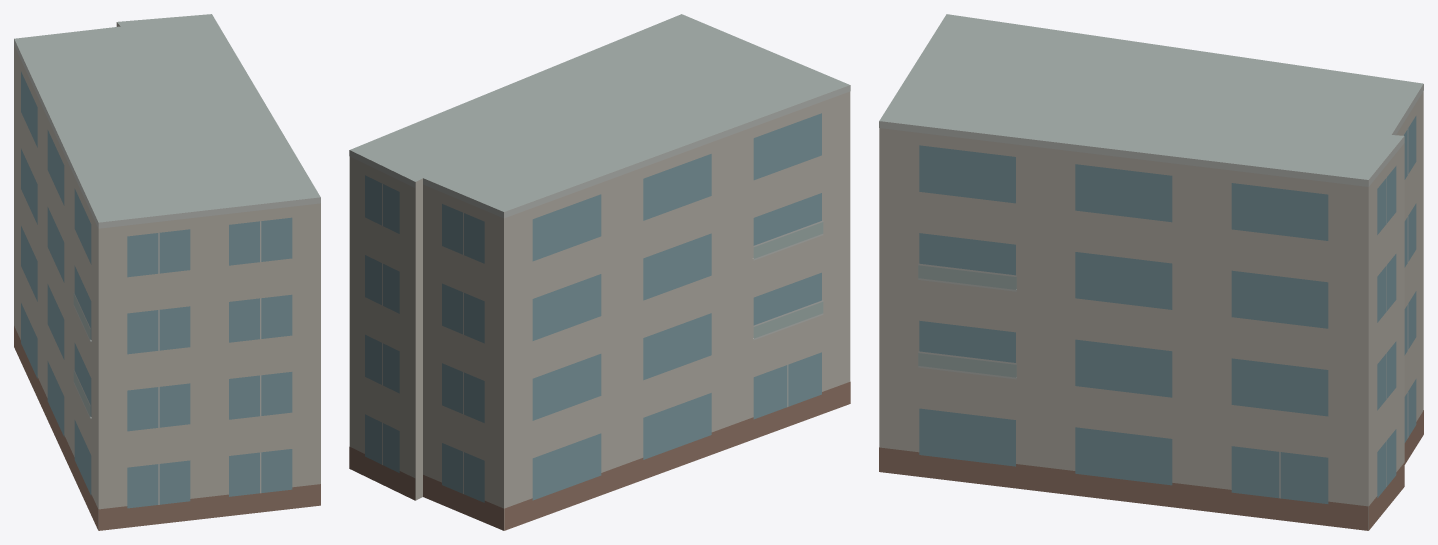
File: survey-upis-32638398.glb
3 views of the same model, side by side, from view 1: azimuth 30°, elevation 25°; view 2: azimuth 150°, elevation 25°; view 3: azimuth 270°, elevation 25° (orthographic). The views are drawn at different scales.
Visible parts, largest first — view 1: survey-upis-32638398.tmp; view 2: survey-upis-32638398.tmp; view 3: survey-upis-32638398.tmp.
Boxes of the visible parts, x1,y1,x2,y2 form: survey-upis-32638398.tmp: (14, 14, 320, 530); survey-upis-32638398.tmp: (349, 14, 850, 530); survey-upis-32638398.tmp: (879, 14, 1423, 530).
Size of the model in its own units: 12.54 by 12.35 by 17.38.
